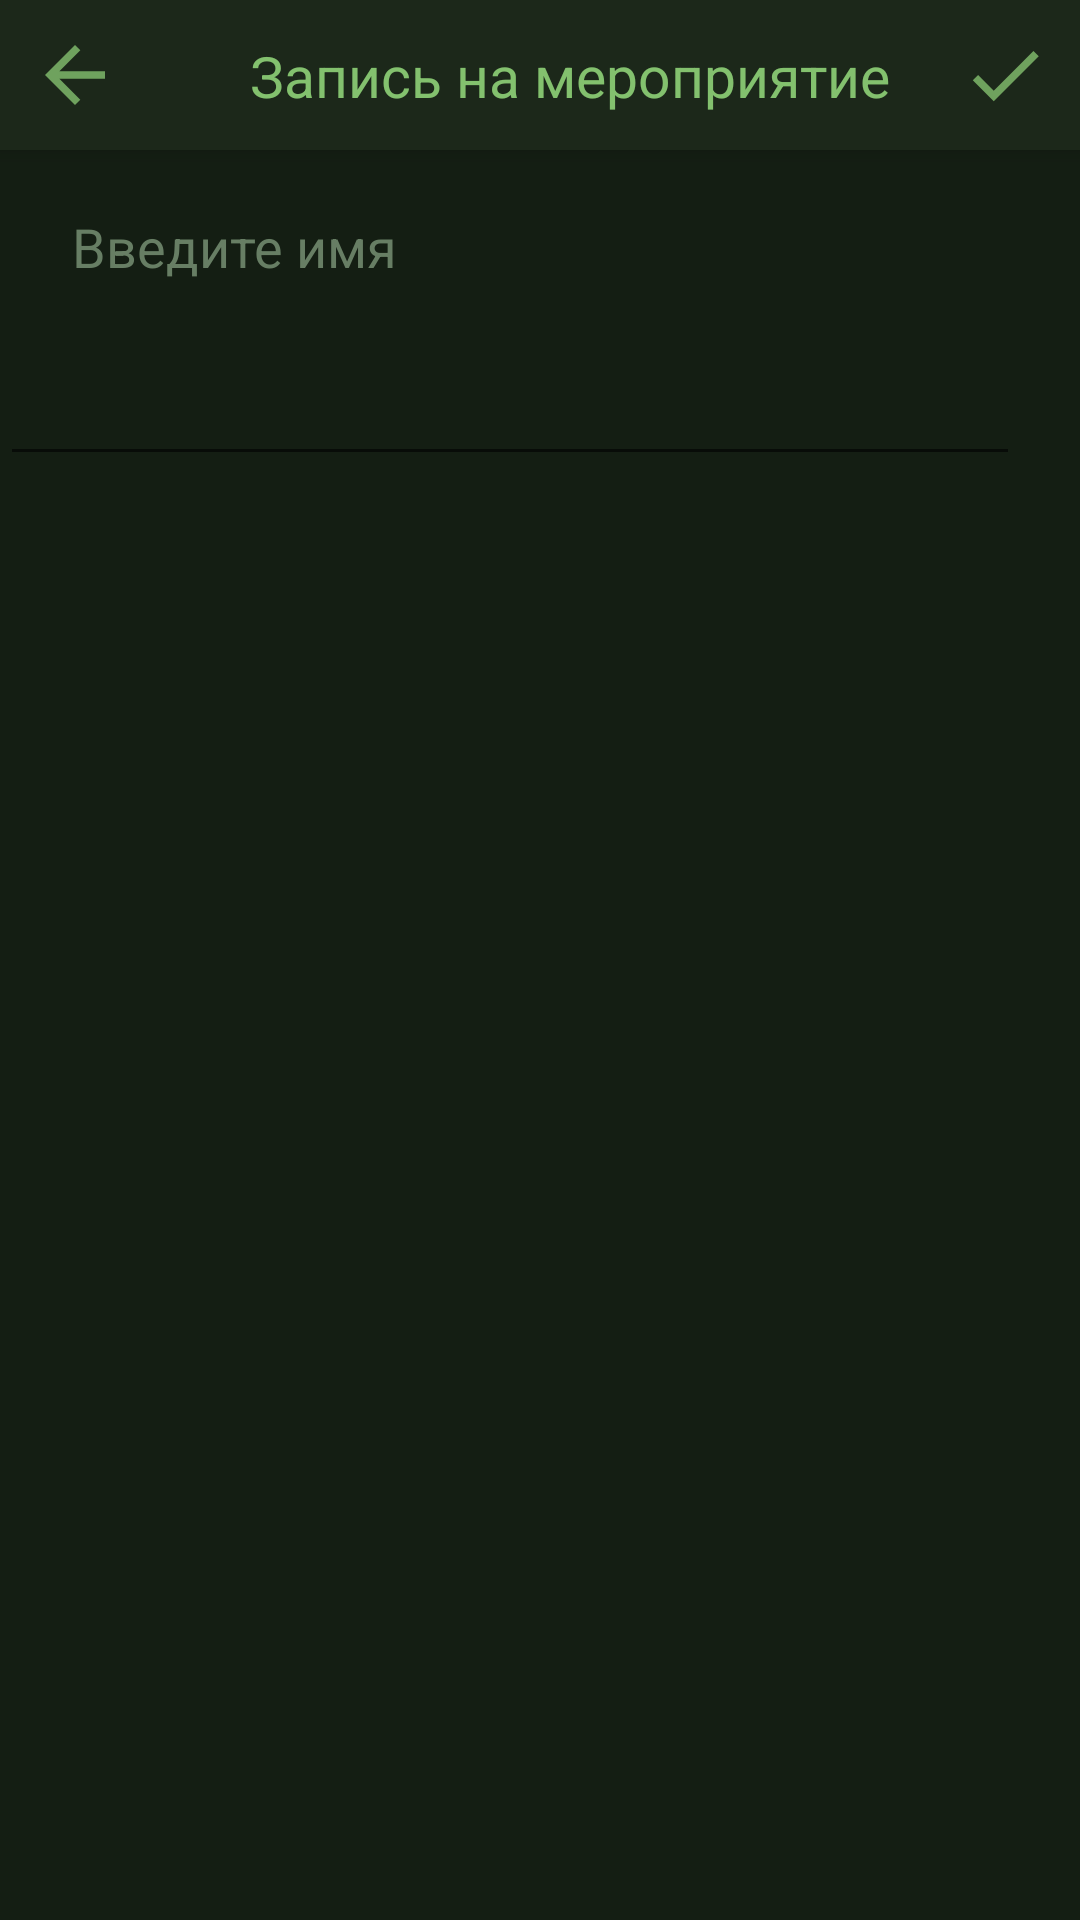

Where to tap for icons on this 1080px x 1920px app screen, as [x,y]:
back: [75,75]
check: [1006,76]
